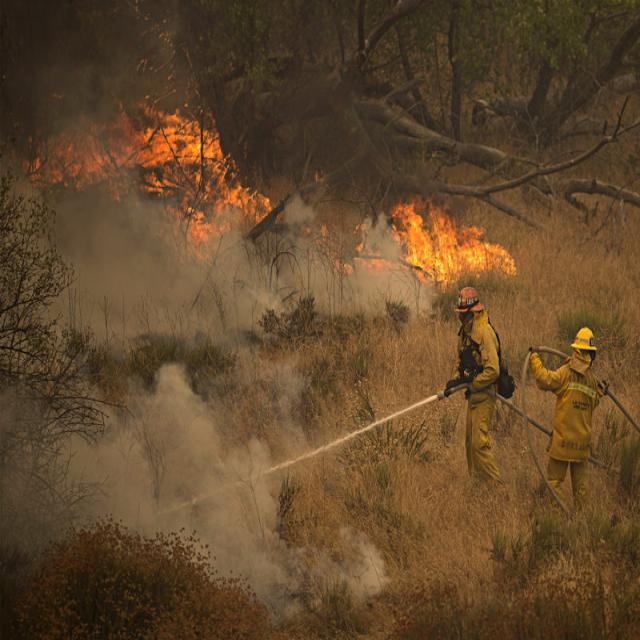fire: (156, 114, 268, 221), (401, 204, 516, 282)
smoke: (0, 373, 270, 542), (64, 228, 398, 329)
